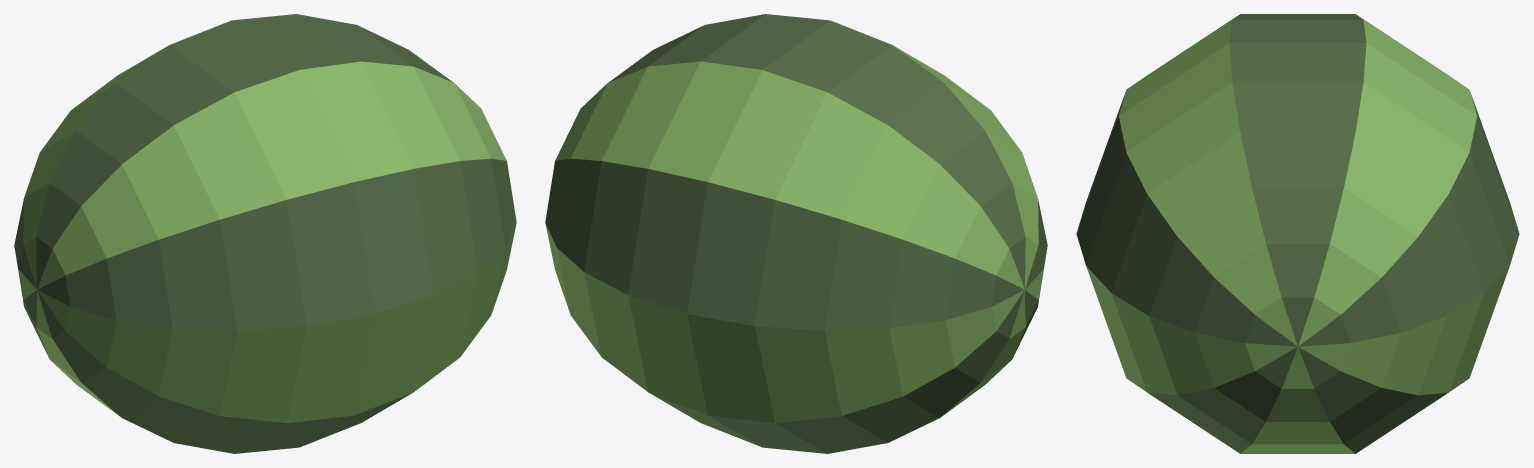
The model's file is watermelon_crop.glb.
3 renders of one model, left to right at view 1: azimuth 30°, elevation 25°; view 2: azimuth 150°, elevation 25°; view 3: azimuth 270°, elevation 25°, orthographic.
Parts seen in each view (by area): view 1: Watermelon_Crop; view 2: Watermelon_Crop; view 3: Watermelon_Crop.
Part boxes in pixels (bbox=[...]): Watermelon_Crop: bbox=[14, 14, 516, 453]; Watermelon_Crop: bbox=[545, 14, 1047, 453]; Watermelon_Crop: bbox=[1076, 14, 1519, 453].
Size of the model in its own units: 0.4443 by 0.351 by 0.369.
